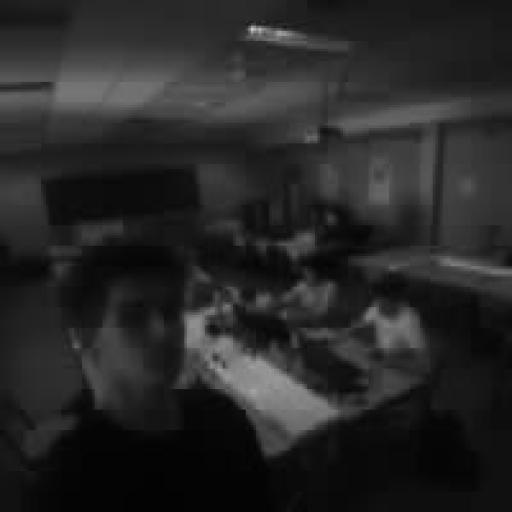human: (31, 241, 271, 511), (349, 274, 430, 371), (274, 259, 337, 327), (168, 236, 216, 301)
